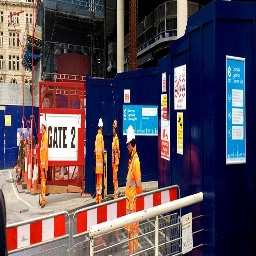helmet: (126, 124, 135, 153)
person: (39, 120, 49, 214), (94, 120, 104, 205)
